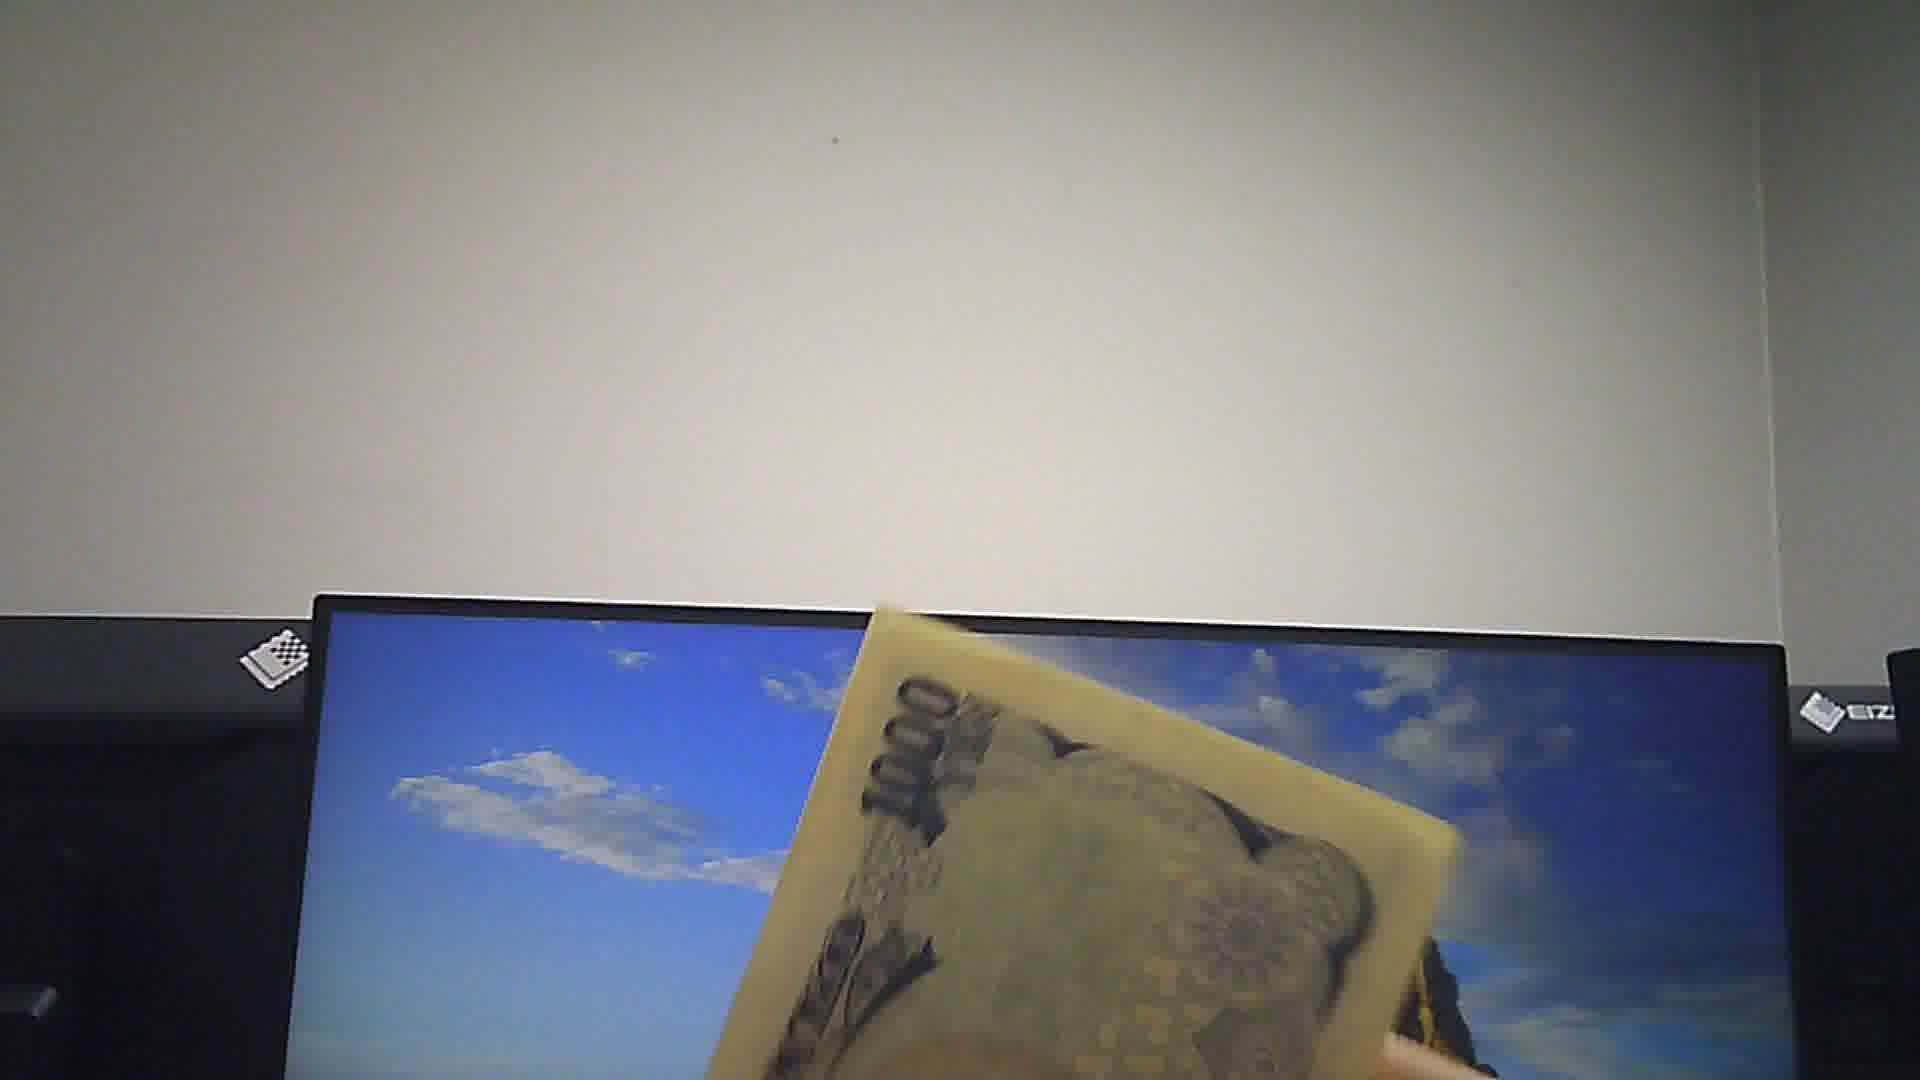1,000 Yen: (746, 597, 1433, 1079)
